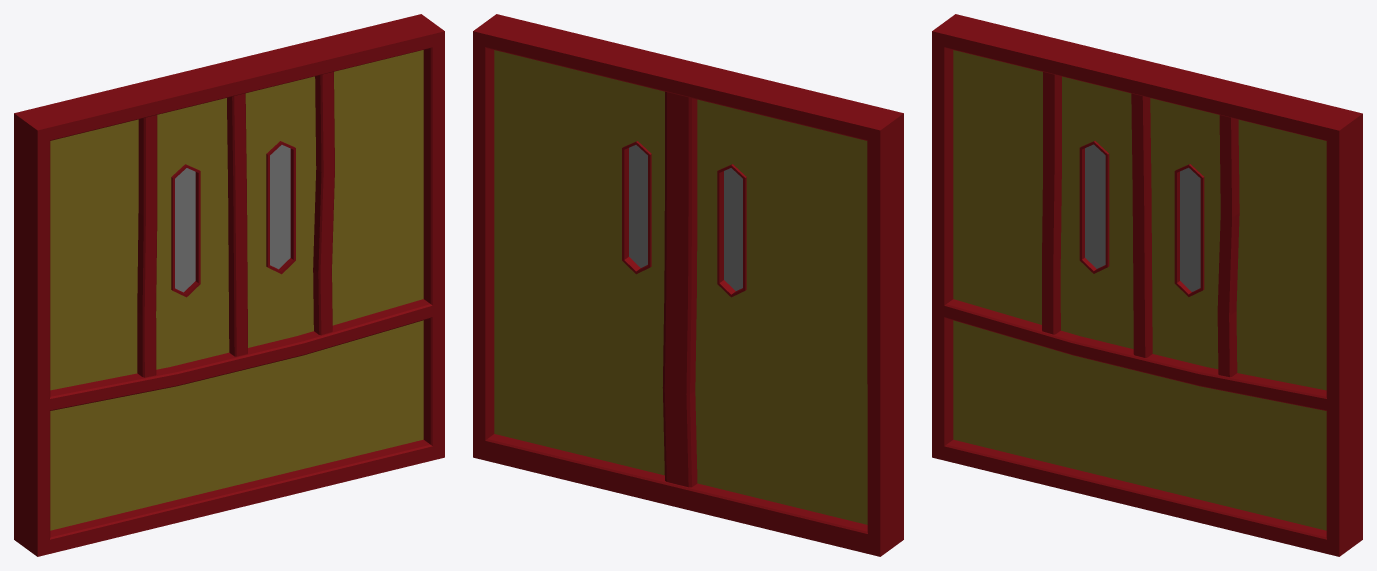
File: SM_MH_01_Plaster_Wall_Window_01.fbx
3 views of the same model, side by side, from view 1: azimuth 30°, elevation 25°; view 2: azimuth 150°, elevation 25°; view 3: azimuth 330°, elevation 25° (orthographic).
Visible parts, largest first — view 1: SM_MH_01_Plaster_Wall_Window_01_LOD0, SM_MH_01_Plaster_Wall_Window_01W_LOD0; view 2: SM_MH_01_Plaster_Wall_Window_01_LOD0, SM_MH_01_Plaster_Wall_Window_01W_LOD0; view 3: SM_MH_01_Plaster_Wall_Window_01_LOD0, SM_MH_01_Plaster_Wall_Window_01W_LOD0.
Part boxes in pixels (bbox=[...]): SM_MH_01_Plaster_Wall_Window_01_LOD0: bbox=[14, 14, 444, 556]; SM_MH_01_Plaster_Wall_Window_01W_LOD0: bbox=[175, 145, 290, 292]; SM_MH_01_Plaster_Wall_Window_01_LOD0: bbox=[473, 14, 903, 556]; SM_MH_01_Plaster_Wall_Window_01W_LOD0: bbox=[629, 145, 742, 290]; SM_MH_01_Plaster_Wall_Window_01_LOD0: bbox=[932, 14, 1362, 556]; SM_MH_01_Plaster_Wall_Window_01W_LOD0: bbox=[1085, 144, 1200, 291].
Size of what is drawn, in the model's own units: 300 by 300 by 30.
